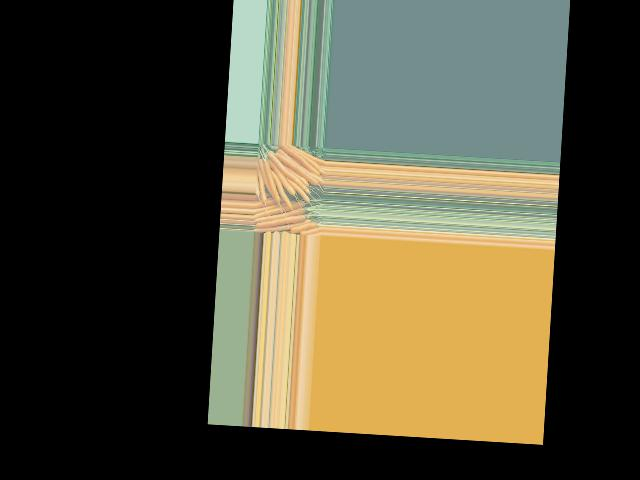carrot: (257, 160, 278, 201)
